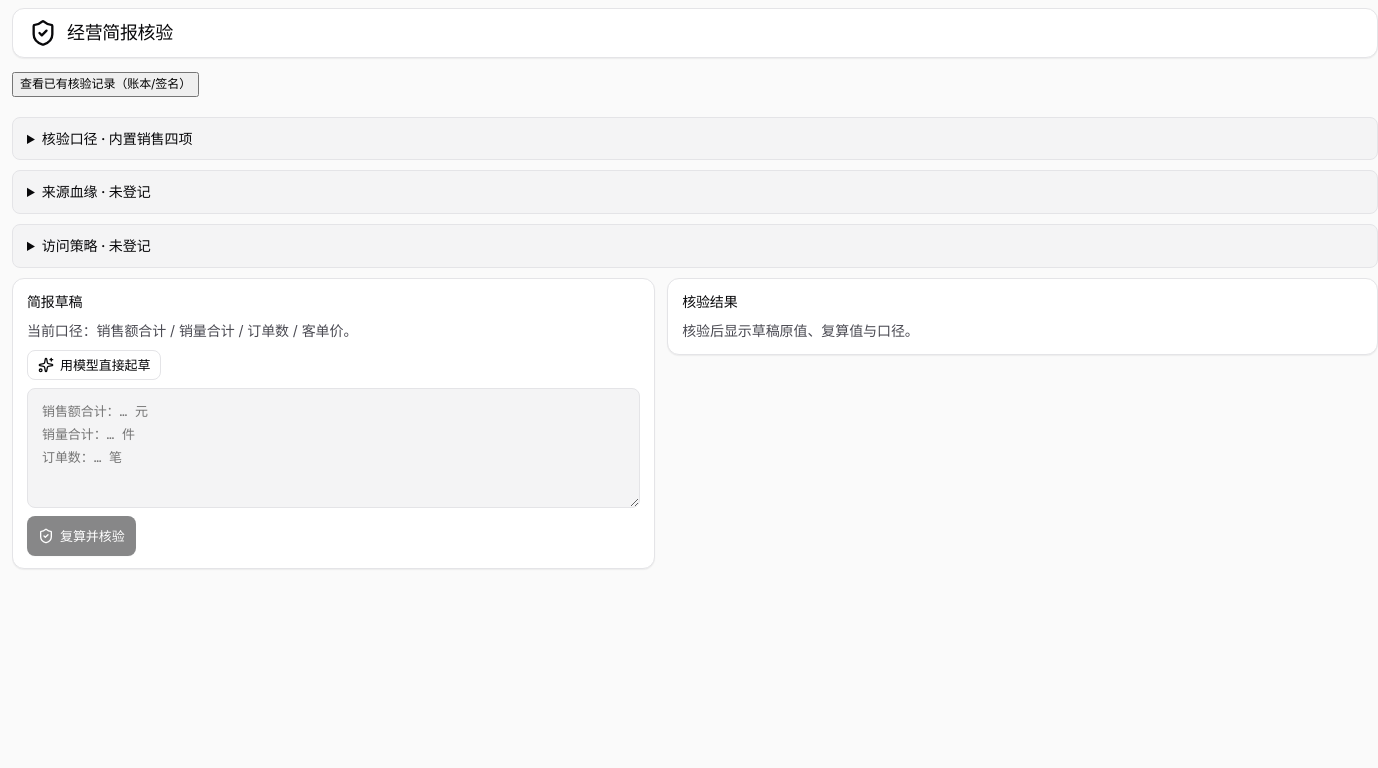
Test: SalesAudit › 核验返回轨迹不一致时展示后端 detail 与处理提示
Type "订单数：1 笔" into the text box labelled "简报草稿". click: (334, 448)
box: [27,388,640,508]
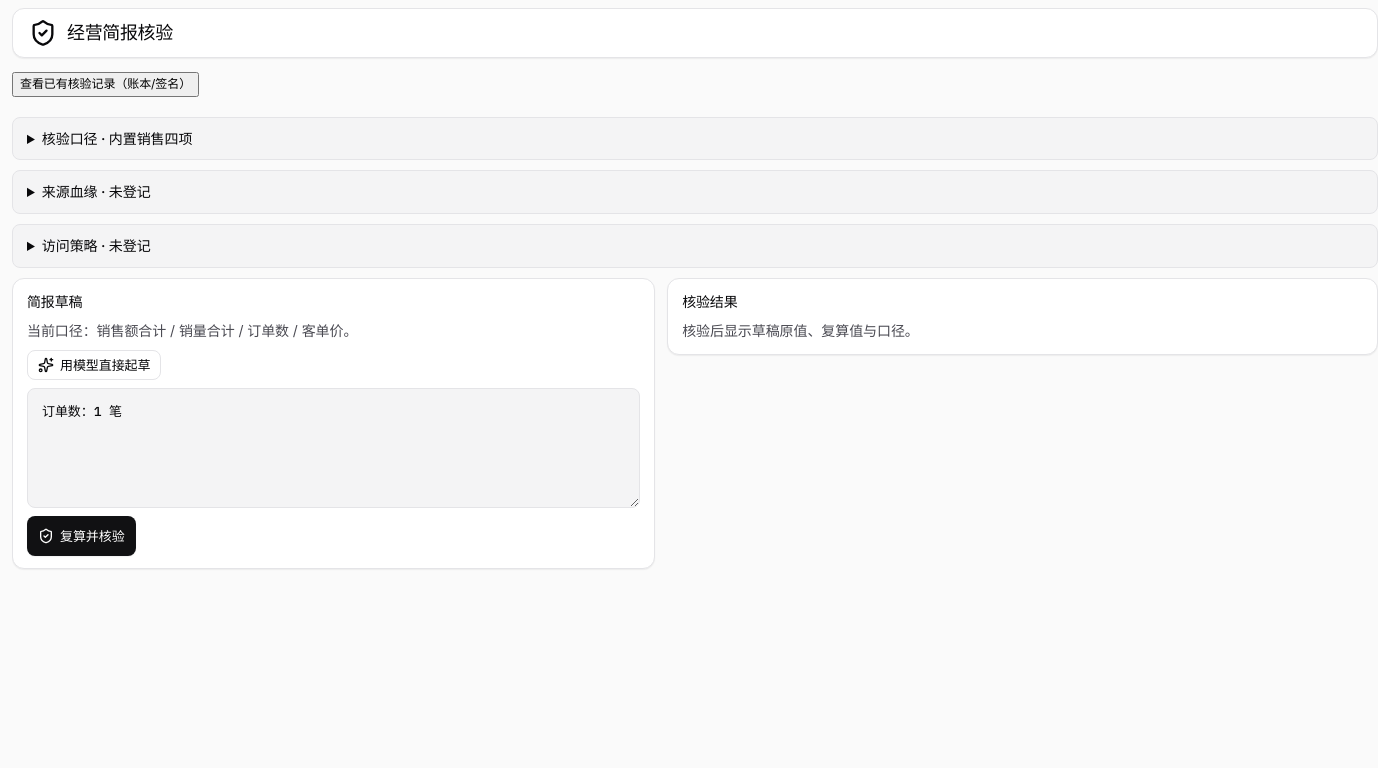
Click the button "复算并核验". click: click(81, 536)
box: [27,516,136,556]
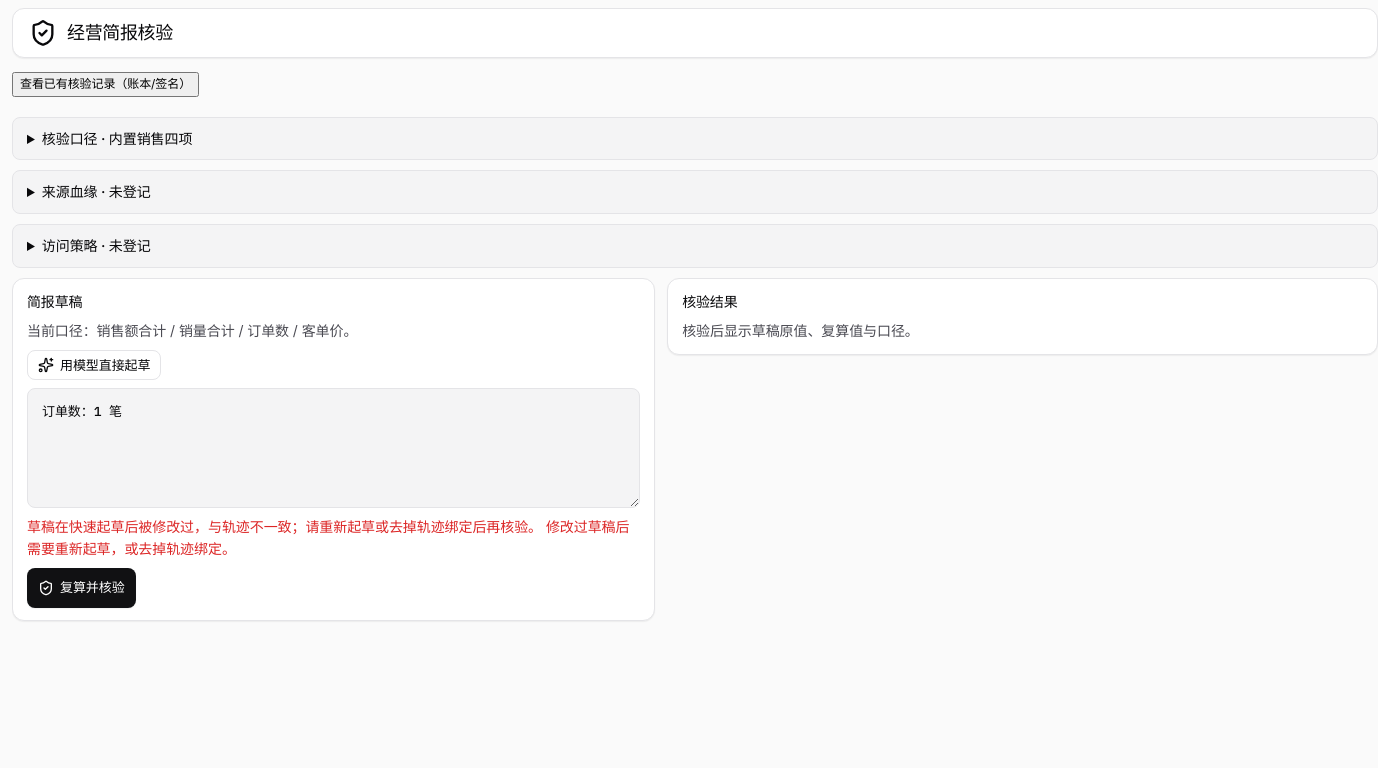
Expected: the message shows "与轨迹不一致", [27,518,629,557]
Expected: the message shows "修改过草稿后需要重新起草，或去掉轨迹绑定", [27,518,629,557]
